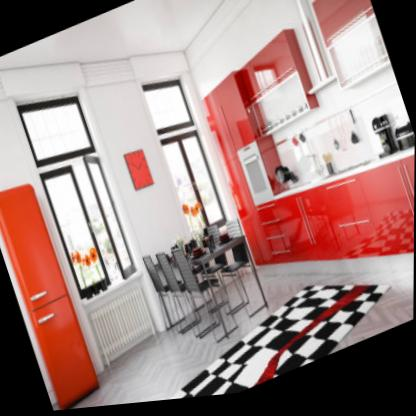Cabinet: (202, 35, 319, 225), (241, 163, 415, 272)
Window: (38, 151, 140, 308), (162, 128, 227, 240), (16, 81, 93, 171), (142, 75, 193, 144)
